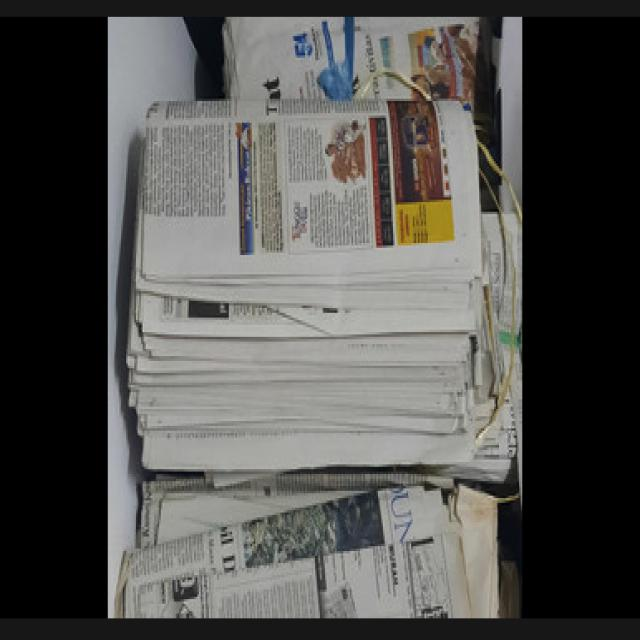Koran: (112, 19, 520, 616), (130, 95, 482, 476)
